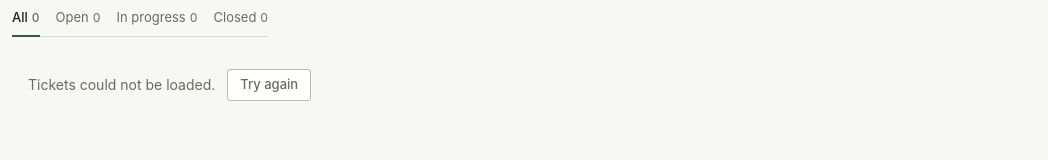
Scenario: TicketList › offers a retry when the list cannot be loaded
The width and height of the screenshot is (1048, 160).
Check: the message shows "Tickets could not be loaded.", box [28, 76, 215, 93]
Click the button "Try again" at x=269, y=85, box [227, 69, 311, 101]
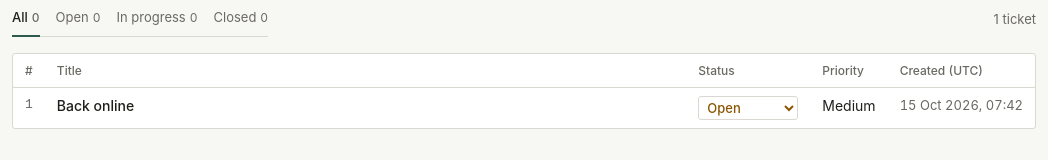
Check: the text "Back online" is shown, box [57, 97, 134, 114]
